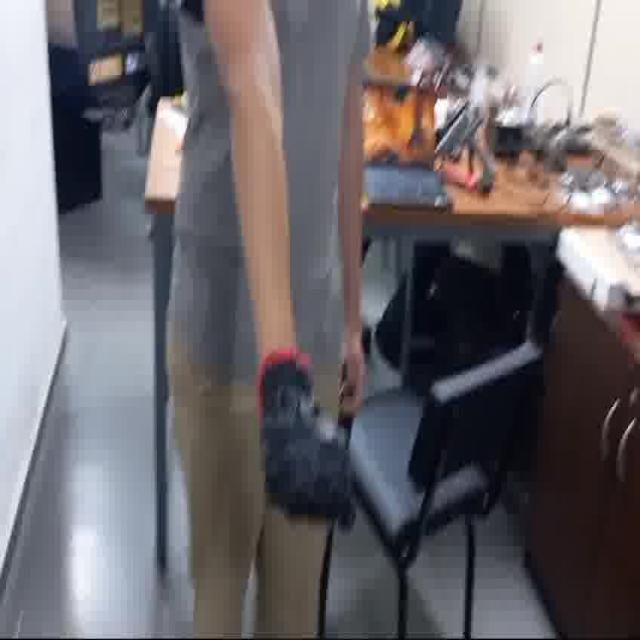Gloves: (256, 356, 367, 531)
